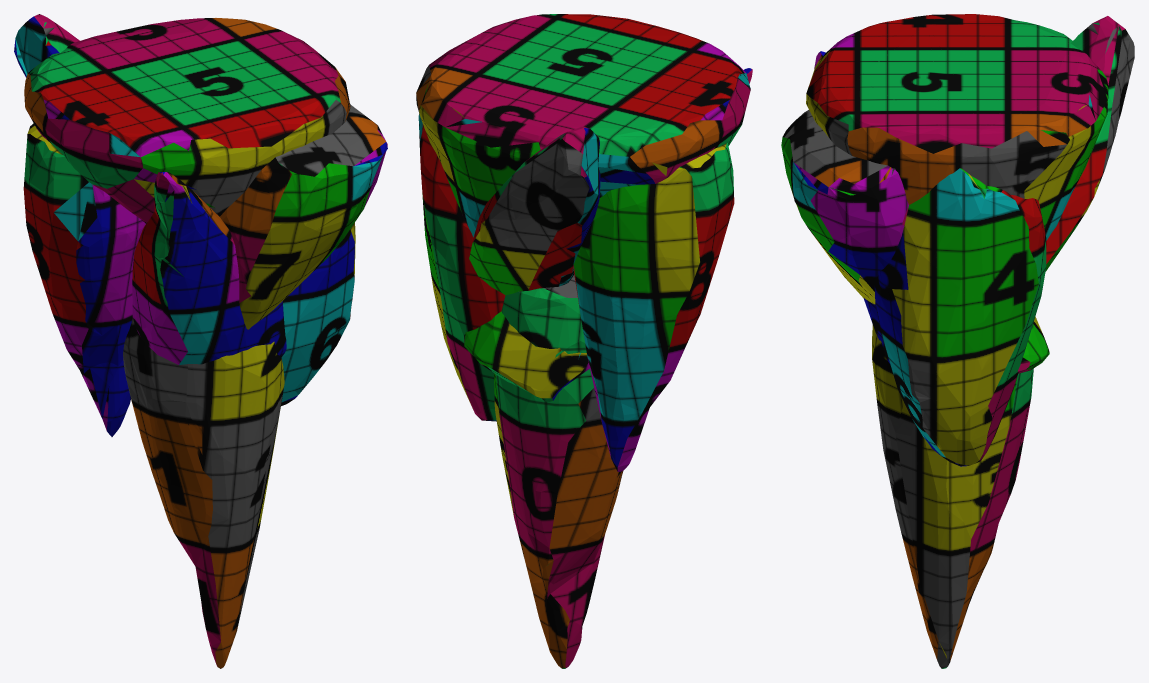
File: boss_plat.fbx
3 renders of one model, left to right at view 1: azimuth 30°, elevation 25°; view 2: azimuth 150°, elevation 25°; view 3: azimuth 270°, elevation 25°, orthographic. The views are drawn at different scales.
Parts seen in each view (by area): view 1: polySurface29; view 2: polySurface29; view 3: polySurface29.
Boxes of the visible parts, x1,y1,x2,y2 form: polySurface29: (14, 14, 387, 668); polySurface29: (416, 14, 752, 668); polySurface29: (781, 14, 1134, 668).
Size of the model in its own units: 4.91 by 9.69 by 5.13.
Materials: 1 (1 with a texture image).
